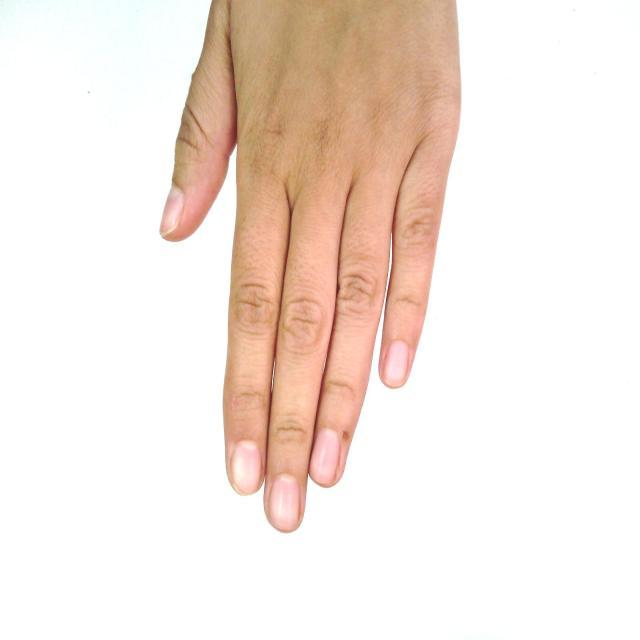Fingernail: (269, 475, 299, 531), (311, 429, 340, 484), (232, 441, 261, 494), (383, 341, 409, 386), (159, 186, 183, 234)
